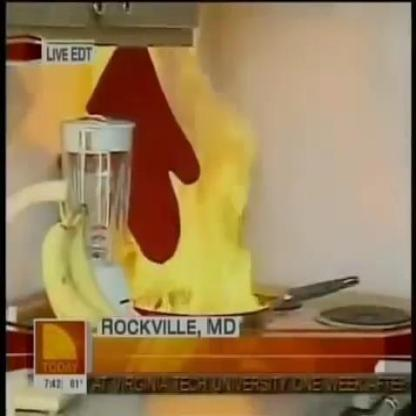fire: (88, 44, 276, 316)
